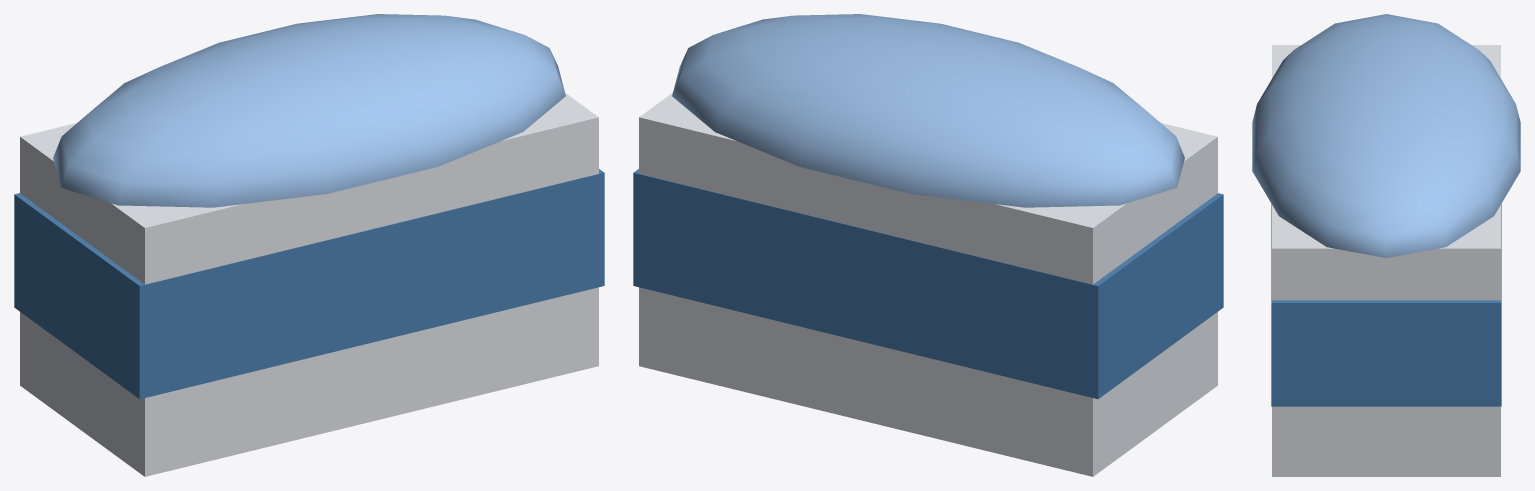
The model's file is station_building_2030.glb.
The picture shows the model from 3 angles, left to right: view 1: azimuth 30°, elevation 25°; view 2: azimuth 150°, elevation 25°; view 3: azimuth 270°, elevation 25°; orthographic projection. The views are drawn at different scales.
Parts seen in each view (by area): view 1: Body, Roof, Glass; view 2: Body, Roof, Glass; view 3: Roof, Body, Glass.
Part boxes in pixels (box(x1,y1,x2,y2)): Body: box(20, 93, 598, 476); Roof: box(53, 14, 565, 207); Glass: box(14, 169, 604, 399); Body: box(639, 93, 1217, 476); Roof: box(672, 14, 1184, 207); Glass: box(633, 169, 1223, 399); Roof: box(1252, 14, 1520, 257); Body: box(1272, 45, 1500, 476); Glass: box(1271, 204, 1501, 406).
Bounding box in the file's own units: 0.92 × 0.58 × 0.468.
